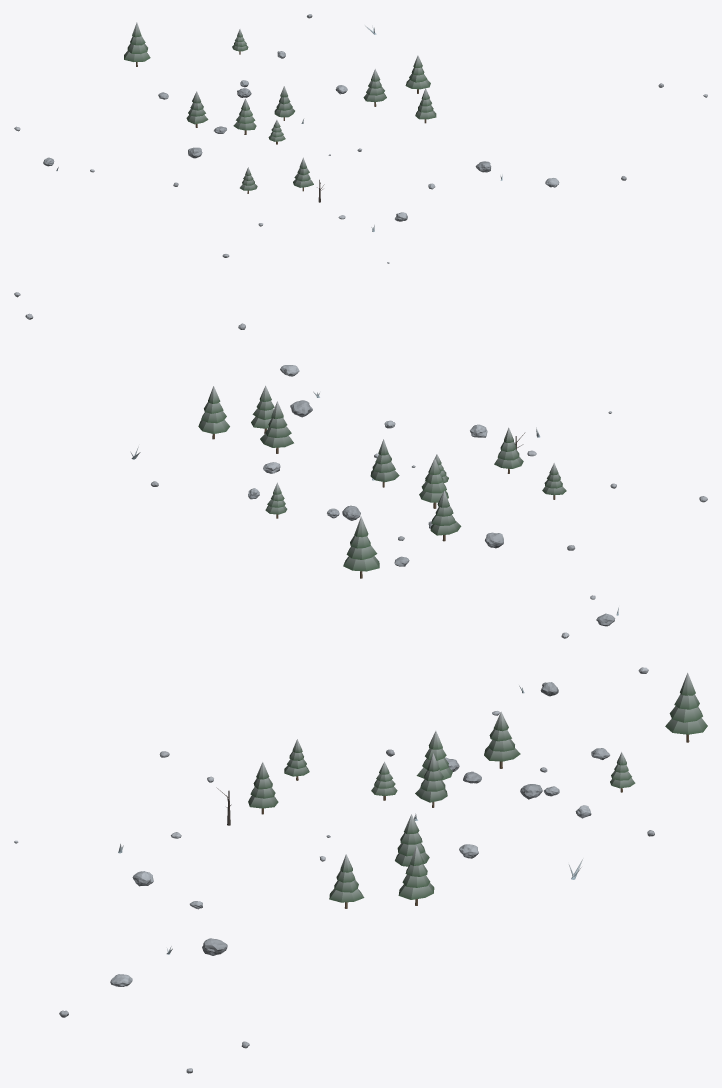
Rendered from frost_land_scatter_c24_10.glb.
3 renders of one model, top to bottom at view 1: azimuth 30°, elevation 25°; view 2: azimuth 150°, elevation 25°; view 3: azimuth 270°, elevation 25°, orthographic. The views are drawn at different scales.
Parts seen in each view (by area): view 1: frost_land_scatter_c24_10; view 2: frost_land_scatter_c24_10; view 3: frost_land_scatter_c24_10.
Part boxes in pixels (x1,y1,x2,y2): frost_land_scatter_c24_10: [14, 14, 707, 263]; frost_land_scatter_c24_10: [14, 292, 707, 638]; frost_land_scatter_c24_10: [14, 667, 707, 1073].
Size of the model in its own units: 186 by 30.13 by 131.
